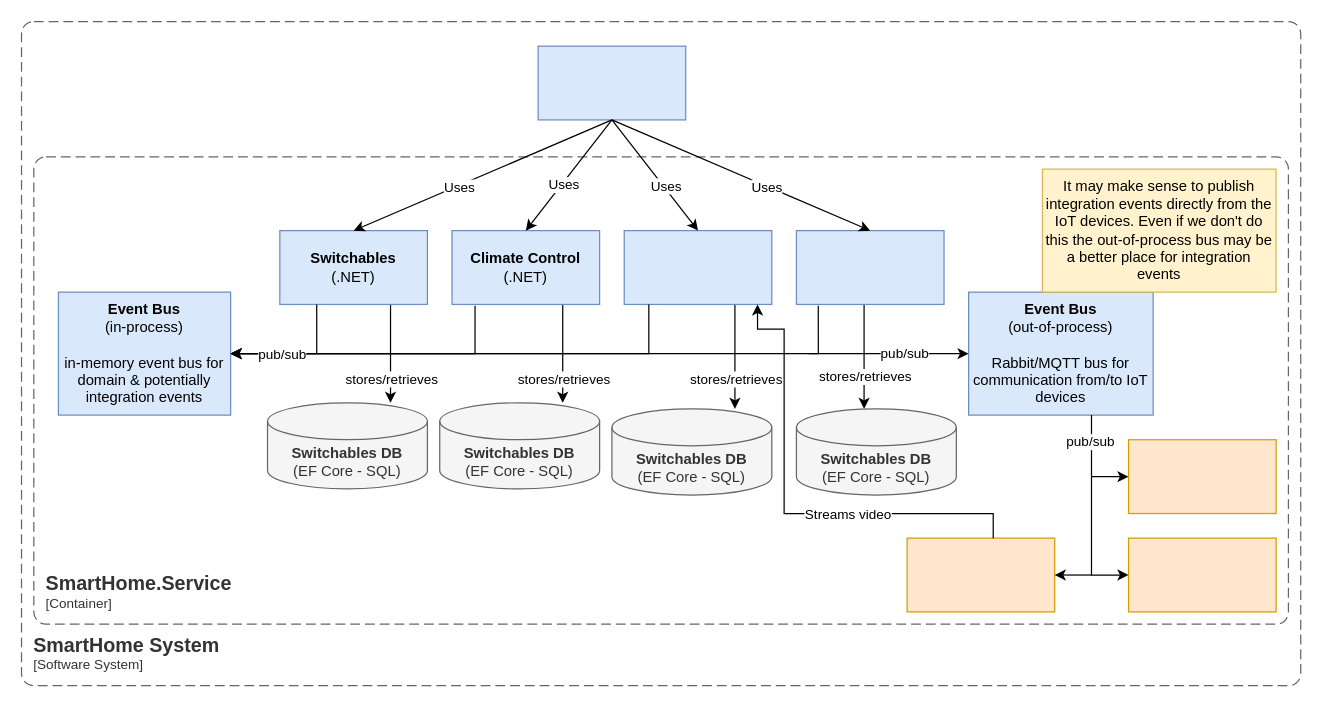
This 1322x707 diagram has some shape labels left out. The shapes that lost their labels are listed below. From the top down, each one's box as (x1, y1, x2, y2) in pixels, then its label:
(537, 45, 686, 120): SPA (Angular)
(623, 229, 772, 304): Cameras (.NET)
(795, 229, 944, 304): Orchestration (.NET)
(1127, 438, 1276, 514): Light Switch
(906, 537, 1055, 612): Camera
(1127, 537, 1276, 612): Thermostat
